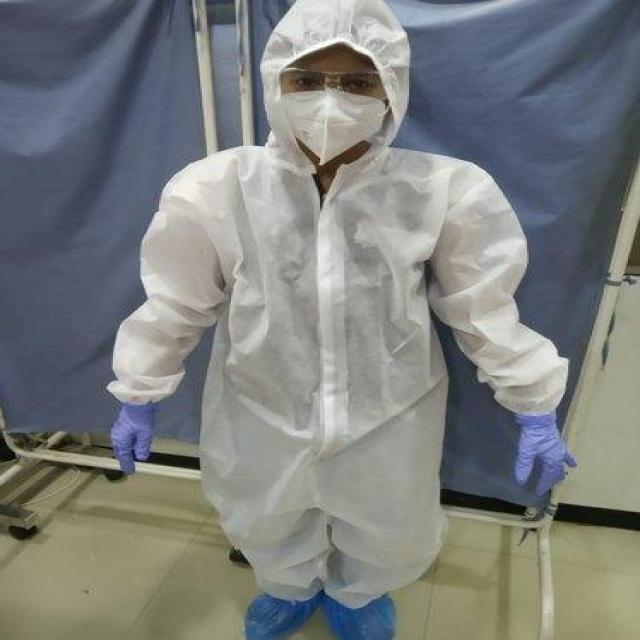Coverall: (60, 1, 486, 639)
Gloves: (491, 411, 606, 522), (92, 385, 197, 470)
Goggles: (260, 46, 407, 99)
Mask: (279, 88, 394, 150)
